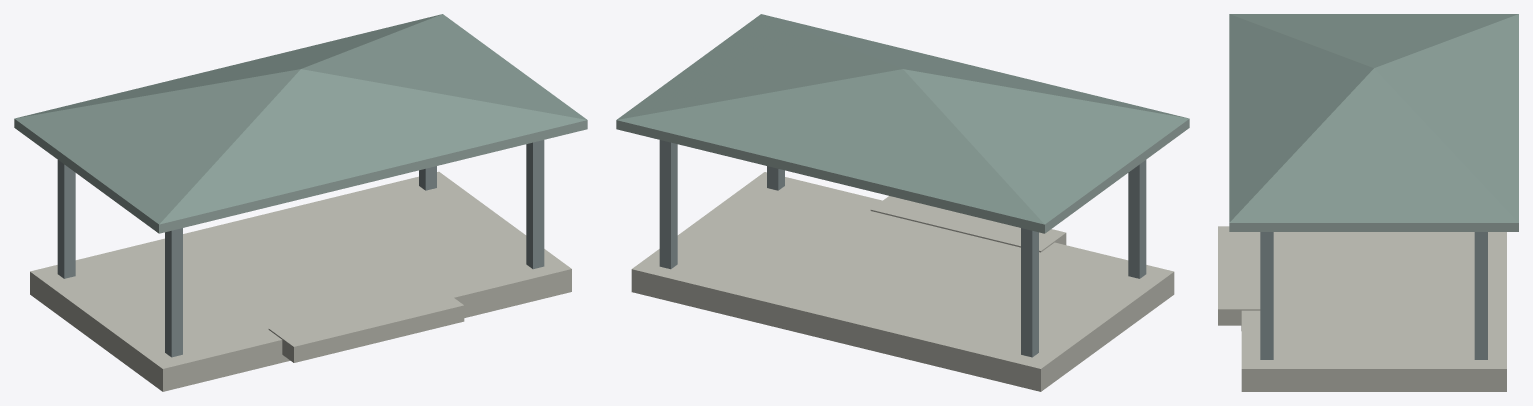
3 views of the same model, side by side, from view 1: azimuth 30°, elevation 25°; view 2: azimuth 150°, elevation 25°; view 3: azimuth 270°, elevation 25° (orthographic).
Visible parts, largest first — view 1: seyeon-north-annex__plainHipCanopy, seyeon-north-annex__shelterPaving, seyeon-north-annex__entranceThreshold_0, seyeon-north-annex__fourOpenPosts, seyeon-north-annex__closedSoffit, seyeon-north-annex__closedRoofEdge; view 2: seyeon-north-annex__plainHipCanopy, seyeon-north-annex__shelterPaving, seyeon-north-annex__fourOpenPosts, seyeon-north-annex__closedSoffit, seyeon-north-annex__entranceThreshold_0, seyeon-north-annex__closedRoofEdge; view 3: seyeon-north-annex__plainHipCanopy, seyeon-north-annex__shelterPaving, seyeon-north-annex__entranceThreshold_0, seyeon-north-annex__fourOpenPosts, seyeon-north-annex__closedSoffit, seyeon-north-annex__closedRoofEdge.
Boxes of the visible parts, x1,y1,x2,y2 form: seyeon-north-annex__plainHipCanopy: [14, 14, 586, 224]; seyeon-north-annex__shelterPaving: [30, 171, 571, 391]; seyeon-north-annex__entranceThreshold_0: [268, 287, 464, 362]; seyeon-north-annex__fourOpenPosts: [57, 140, 544, 357]; seyeon-north-annex__closedSoffit: [14, 121, 587, 233]; seyeon-north-annex__closedRoofEdge: [14, 119, 587, 226]; seyeon-north-annex__plainHipCanopy: [617, 14, 1189, 224]; seyeon-north-annex__shelterPaving: [631, 172, 1174, 391]; seyeon-north-annex__fourOpenPosts: [659, 140, 1146, 357]; seyeon-north-annex__closedSoffit: [616, 121, 1189, 233]; seyeon-north-annex__entranceThreshold_0: [870, 196, 1066, 252]; seyeon-north-annex__closedRoofEdge: [616, 119, 1189, 226]; seyeon-north-annex__plainHipCanopy: [1229, 14, 1518, 222]; seyeon-north-annex__shelterPaving: [1241, 232, 1506, 391]; seyeon-north-annex__entranceThreshold_0: [1218, 226, 1260, 325]; seyeon-north-annex__fourOpenPosts: [1260, 232, 1487, 359]; seyeon-north-annex__closedSoffit: [1229, 225, 1518, 231]; seyeon-north-annex__closedRoofEdge: [1229, 223, 1518, 224].
Bounding box in the file's own units: 8.3 × 4.15 × 5.05.
